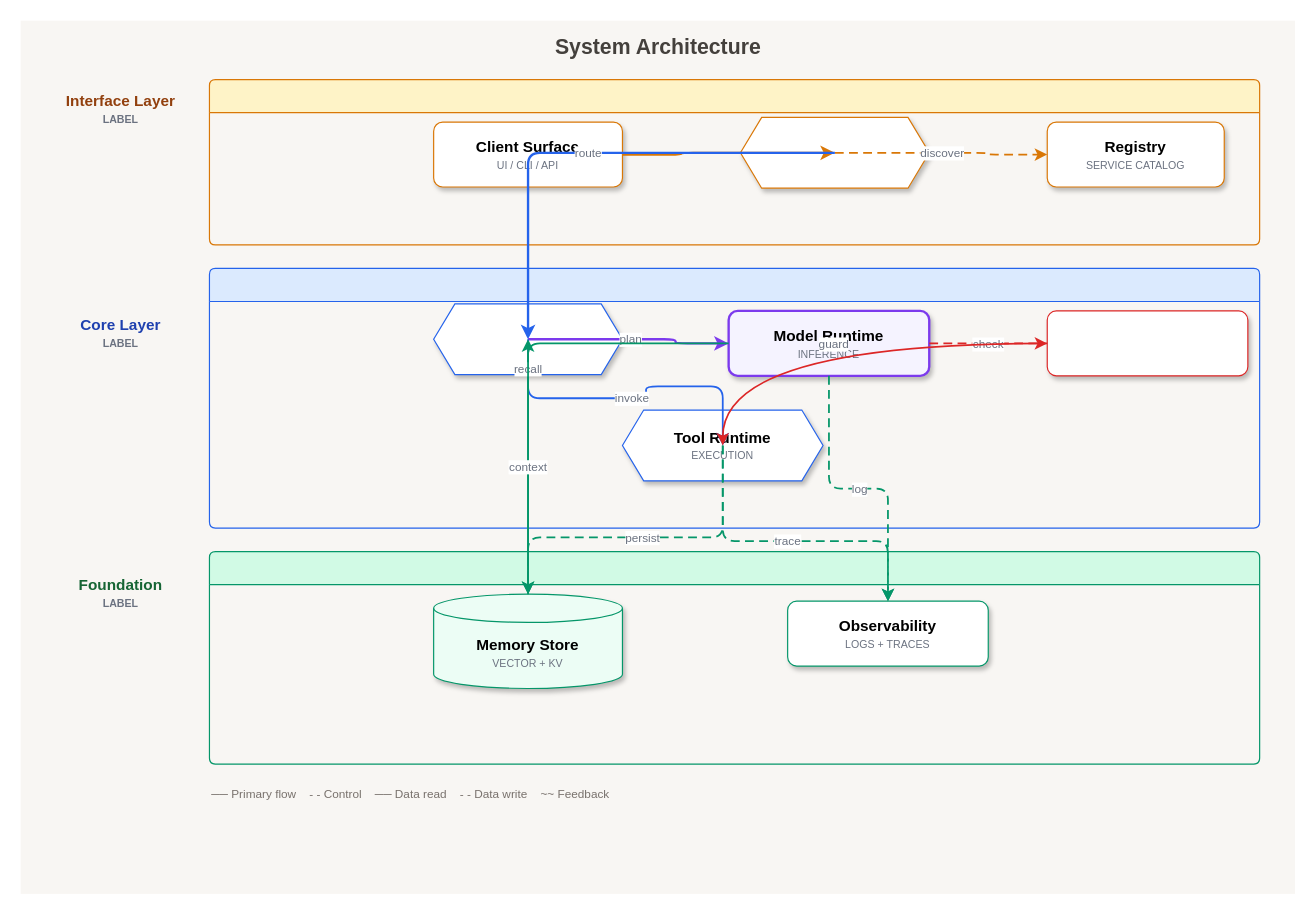
This 1315x913 diagram has some shape labels left out. Each missing label, with the centre of its shape:
Gateway ROUTING: (x=835, y=154)
Policy Guardrails SAFETY: (x=1148, y=344)
Task Planner DECOMPOSITION: (x=529, y=340)
